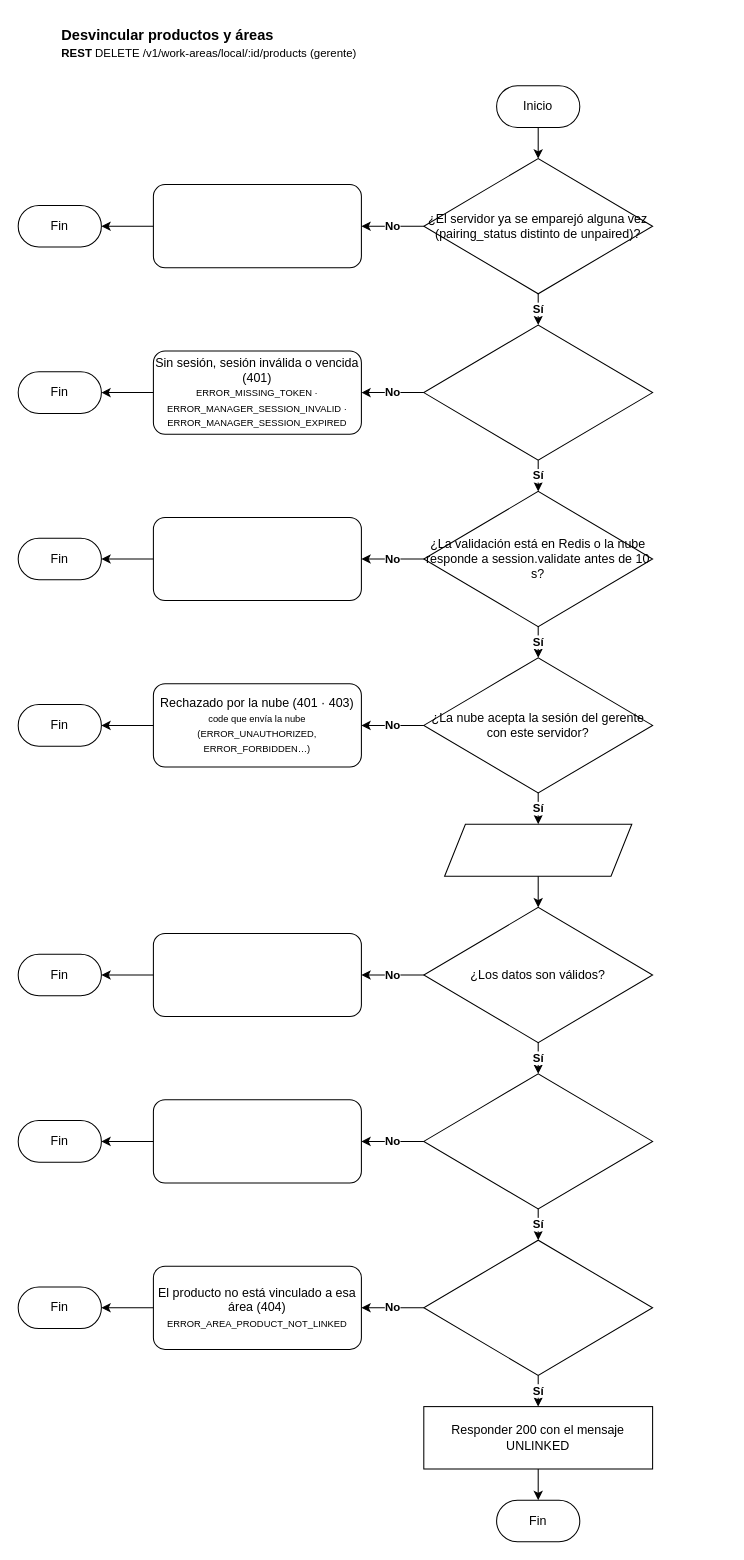
The diagram is 744 pixels wide and 1560 high, and some of its shapes have lost their labels. The box of each missing label's shape, as (x1, y1, x2, y2) in pixels:
Datos inválidos (400) ERROR_BAD_REQUEST: (152, 932, 361, 1017)
La nube no responde (503) ERROR_CLOUD_UNAVAILABLE · ERROR_SERVER_UNLINKED: (152, 516, 361, 601)
No se encontró el área de trabajo (404) ERROR_AREA_PRODUCT_WORK_AREA_NOT_FOUND: (152, 1099, 361, 1183)
Recibir datos: (444, 823, 632, 876)
Servidor sin emparejar (409) ERROR_SERVER_NOT_PAIRED: (152, 184, 361, 268)
¿El producto está vinculado a esa área?: (423, 1239, 653, 1375)
¿Existe el área de trabajo?: (423, 1073, 653, 1209)
¿Trae una sesión de gerente válida (Bearer mss_..., sin 30 min de inactividad)?: (423, 324, 653, 460)
